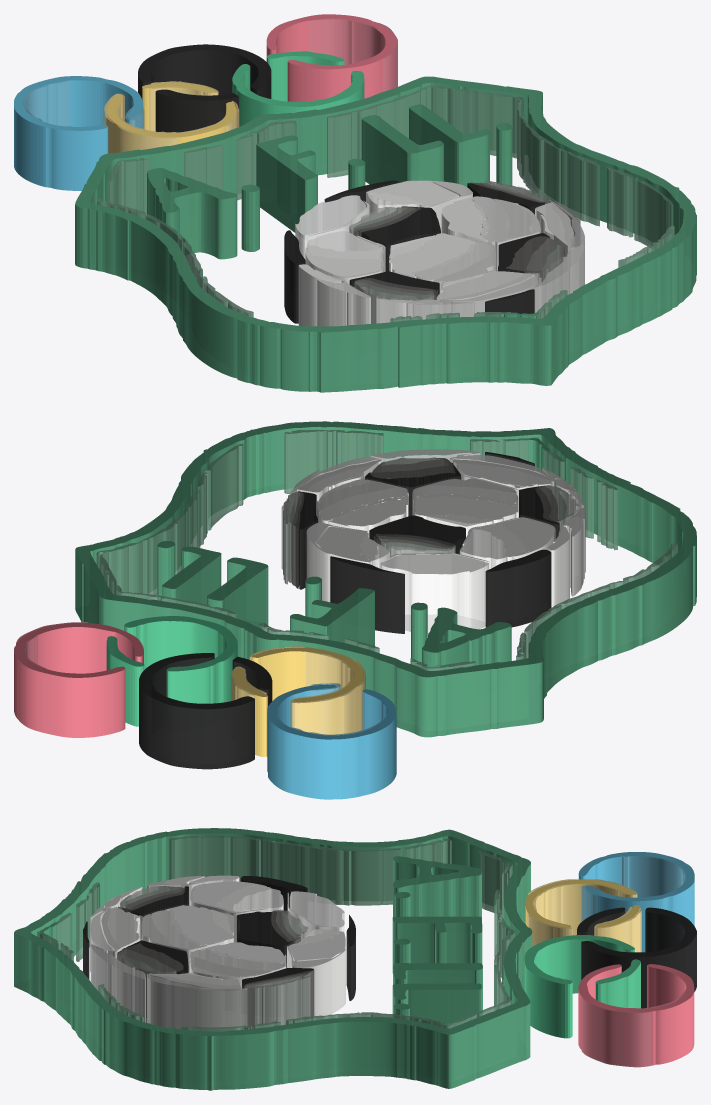
The model's file is asociacion.glb.
3 renders of one model, top to bottom at view 1: azimuth 30°, elevation 25°; view 2: azimuth 150°, elevation 25°; view 3: azimuth 270°, elevation 25°, orthographic. The views are drawn at different scales.
Visible parts, largest first — view 1: Node1, Node78, Node29, Node77, Node30, Node3, Node47, Node90, Node7, Node75, Node34, Node43 (+39 smaller); view 2: Node1, Node77, Node78, Node3, Node75, Node43, Node79, Node8, Node30, Node31, Node82, Node9 (+33 smaller); view 3: Node1, Node28, Node77, Node75, Node3, Node78, Node48, Node91, Node47, Node60, Node86, Node23 (+41 smaller).
Part boxes in pixels (box(x1,y1,x2,y2)): Node1: box(75, 76, 696, 392); Node78: box(14, 76, 143, 190); Node29: box(327, 85, 517, 177); Node77: box(266, 14, 396, 101); Node30: box(516, 96, 599, 226); Node3: box(138, 44, 271, 98); Node47: box(412, 246, 584, 319); Node90: box(308, 18, 382, 64); Node7: box(155, 89, 238, 132); Node75: box(232, 64, 364, 126); Node34: box(634, 177, 673, 246); Node43: box(295, 195, 365, 259); Node1: box(75, 421, 696, 737); Node77: box(14, 623, 143, 737); Node78: box(267, 684, 396, 799); Node3: box(139, 653, 254, 769); Node75: box(124, 616, 237, 703); Node43: box(380, 553, 488, 633); Node79: box(251, 647, 363, 734); Node8: box(485, 549, 551, 627); Node30: box(96, 489, 200, 595); Node31: box(284, 429, 383, 493); Node82: box(290, 651, 356, 734); Node9: box(330, 556, 404, 633); Node1: box(14, 828, 532, 1090); Node28: box(169, 835, 401, 905); Node77: box(578, 964, 694, 1065); Node75: box(524, 935, 634, 1038); Node3: box(581, 907, 696, 1008); Node78: box(578, 852, 694, 952); Node48: box(147, 973, 247, 1029); Node91: box(581, 997, 650, 1067); Node47: box(90, 896, 145, 1022); Node60: box(245, 975, 310, 1028); Node86: box(622, 855, 686, 897); Node23: box(287, 946, 345, 1016).
Bounding box in the file's own units: 82.65 × 10 × 114.
